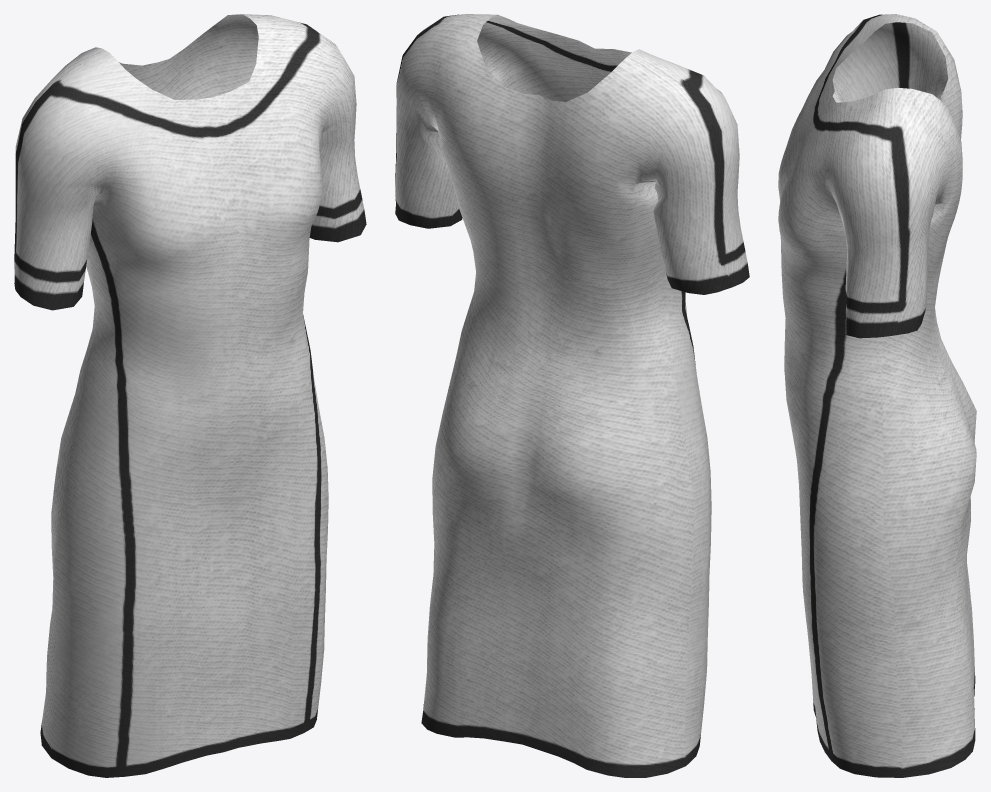
The model's file is top_tunic.gltf.
3 renders of one model, left to right at view 1: azimuth 30°, elevation 25°; view 2: azimuth 150°, elevation 25°; view 3: azimuth 270°, elevation 25°, orthographic. The views are drawn at different scales.
Parts seen in each view (by area): view 1: top_tunic; view 2: top_tunic; view 3: top_tunic.
Part boxes in pixels (left/top/right/bottom): top_tunic: left=14, top=14, right=366, bottom=777; top_tunic: left=395, top=14, right=749, bottom=777; top_tunic: left=778, top=14, right=976, bottom=777.
Size of the model in its own units: 0.4826 by 0.9453 by 0.2555.
1 material, 1 textured.
